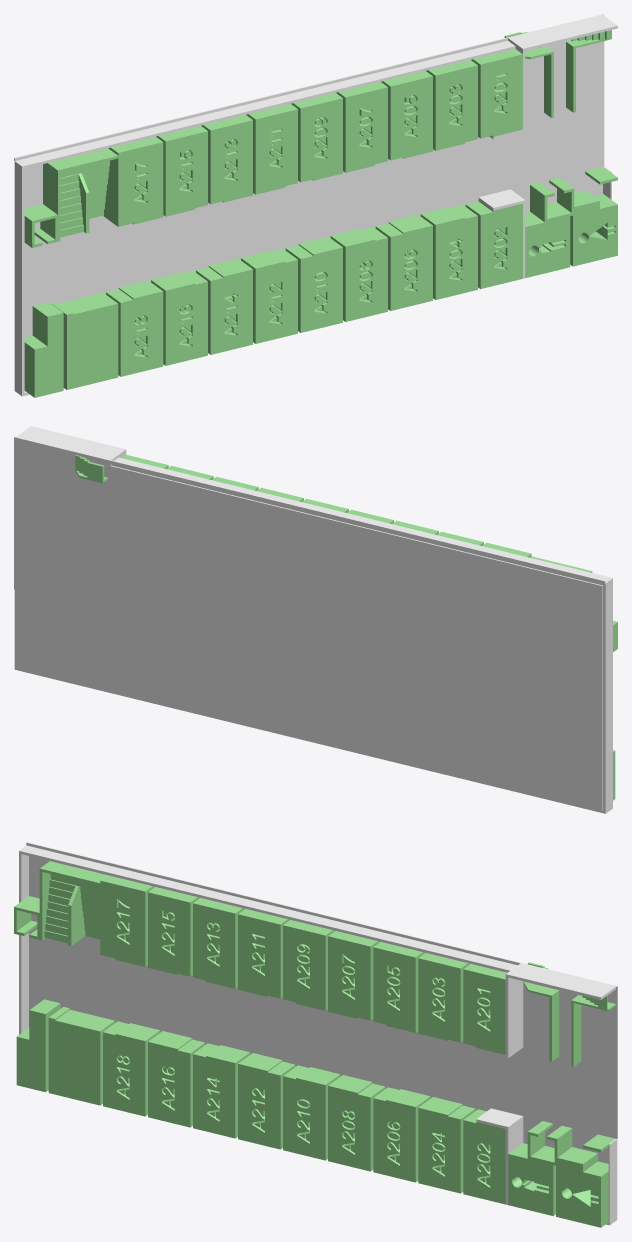
File: Edificio A - piso 2.obj
3 views of the same model, one above another, from view 1: azimuth 30°, elevation 25°; view 2: azimuth 150°, elevation 25°; view 3: azimuth 330°, elevation 25° (orthographic).
Parts seen in each view (by area): view 1: Cuerpo41, Cuerpo40, Cuerpo8, Cuerpo2, Cuerpo1, Cuerpo5, Cuerpo16, Cuerpo9, Cuerpo3, Cuerpo17, Cuerpo15 (2) (3), Cuerpo10 (+19 smaller); view 2: Cuerpo41, Cuerpo40, Cuerpo31; view 3: Cuerpo41, Cuerpo40, Cuerpo2, Cuerpo8, Cuerpo16, Cuerpo15 (2) (3), Cuerpo3, Cuerpo10, Cuerpo17, Cuerpo5, Cuerpo1, Cuerpo9 (+19 smaller).
Part boxes in pixels (<box>): Cuerpo41: <box>14,14,604,337</box>; Cuerpo40: <box>14,41,611,396</box>; Cuerpo8: <box>43,147,120,241</box>; Cuerpo2: <box>52,293,118,389</box>; Cuerpo1: <box>106,280,163,376</box>; Cuerpo5: <box>196,258,252,354</box>; Cuerpo16: <box>241,249,297,343</box>; Cuerpo9: <box>285,236,342,332</box>; Cuerpo3: <box>151,271,207,365</box>; Cuerpo17: <box>375,214,432,310</box>; Cuerpo15 (2) (3): <box>420,205,477,299</box>; Cuerpo10: <box>330,227,387,321</box>; Cuerpo41: <box>14,436,605,810</box>; Cuerpo40: <box>14,457,612,813</box>; Cuerpo31: <box>16,426,126,460</box>; Cuerpo41: <box>26,842,617,1163</box>; Cuerpo40: <box>19,845,617,1225</box>; Cuerpo2: <box>48,1007,114,1105</box>; Cuerpo8: <box>39,861,109,955</box>; Cuerpo16: <box>238,1053,295,1149</box>; Cuerpo15 (2) (3): <box>418,1097,475,1193</box>; Cuerpo3: <box>148,1031,205,1127</box>; Cuerpo10: <box>328,1075,385,1171</box>; Cuerpo17: <box>373,1087,430,1182</box>; Cuerpo5: <box>193,1043,250,1138</box>; Cuerpo1: <box>103,1021,160,1116</box>; Cuerpo9: <box>283,1065,340,1160</box>.
Size of the model in its own units: 45.9 by 17.3 by 2.8.
